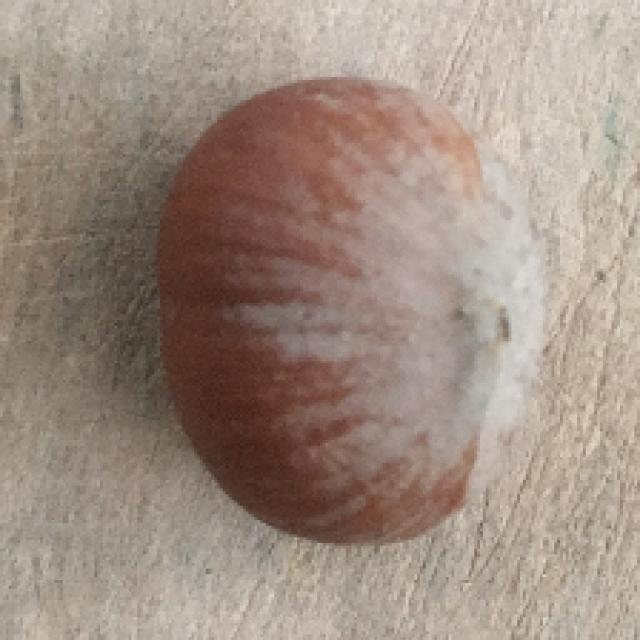qualityHazelnut: (143, 53, 538, 545)
